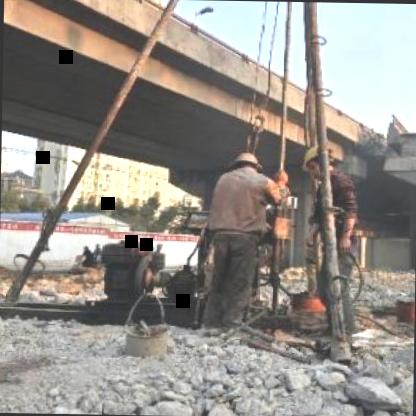helmet: (298, 140, 340, 178), (225, 151, 265, 180)
